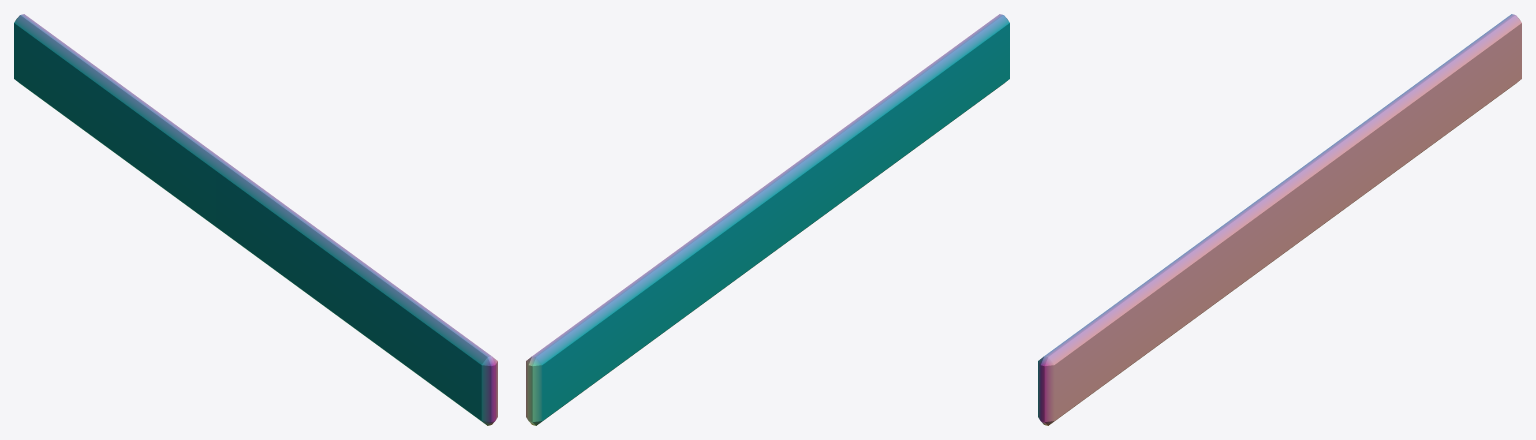
Rendered from att_blade.glb.
The picture shows the model from 3 angles, left to right: view 1: azimuth 30°, elevation 25°; view 2: azimuth 150°, elevation 25°; view 3: azimuth 330°, elevation 25°; orthographic projection.
Visible parts, largest first — view 1: att_blade_mesh; view 2: att_blade_mesh; view 3: att_blade_mesh.
Boxes of the visible parts, <box> form: att_blade_mesh: <box>14,14,497,425</box>; att_blade_mesh: <box>526,14,1009,425</box>; att_blade_mesh: <box>1038,14,1521,425</box>.
Size of the model in its own units: 0.004 by 0.016 by 0.2.
